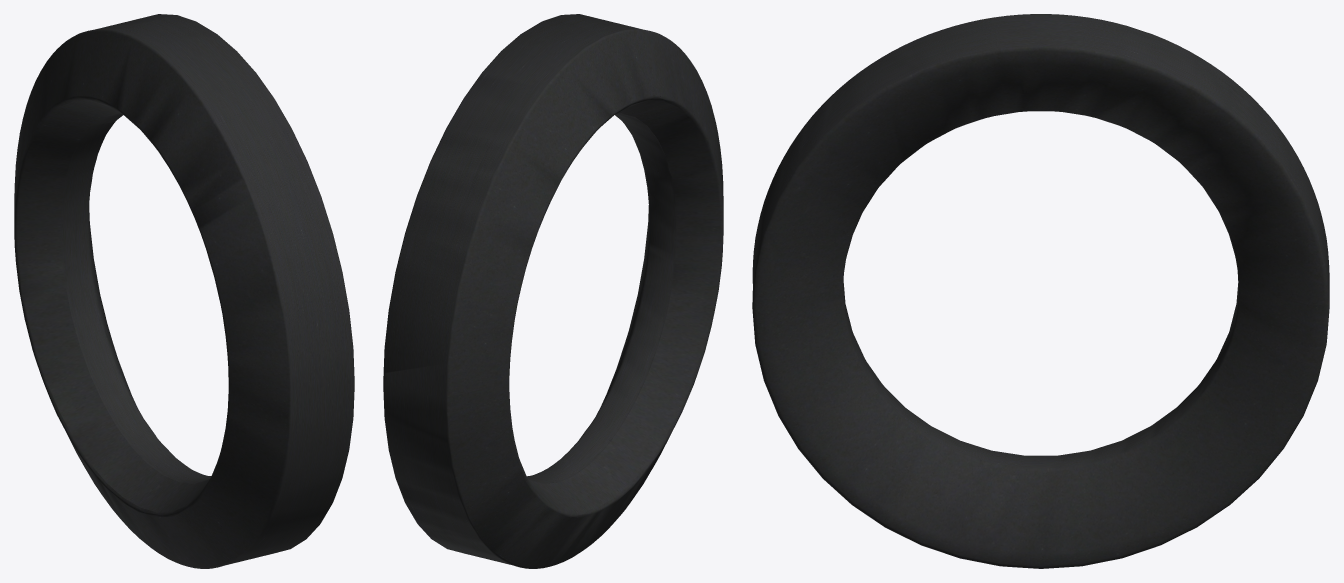
Rendered from Recessed_Washer__OOCompensator.dae.
3 renders of one model, left to right at view 1: azimuth 30°, elevation 25°; view 2: azimuth 150°, elevation 25°; view 3: azimuth 270°, elevation 25°, orthographic. The views are drawn at different scales.
Parts seen in each view (by area): view 1: Recessed_Washer__OOCompensator; view 2: Recessed_Washer__OOCompensator; view 3: Recessed_Washer__OOCompensator.
Boxes of the visible parts, left/top/right/bottom form: Recessed_Washer__OOCompensator: left=14, top=14, right=354, bottom=568; Recessed_Washer__OOCompensator: left=383, top=14, right=723, bottom=568; Recessed_Washer__OOCompensator: left=752, top=14, right=1329, bottom=568.
Bounding box in the file's own units: 0.00368 × 0.0184 × 0.0184.
Materials: 1 (1 with a texture image).
